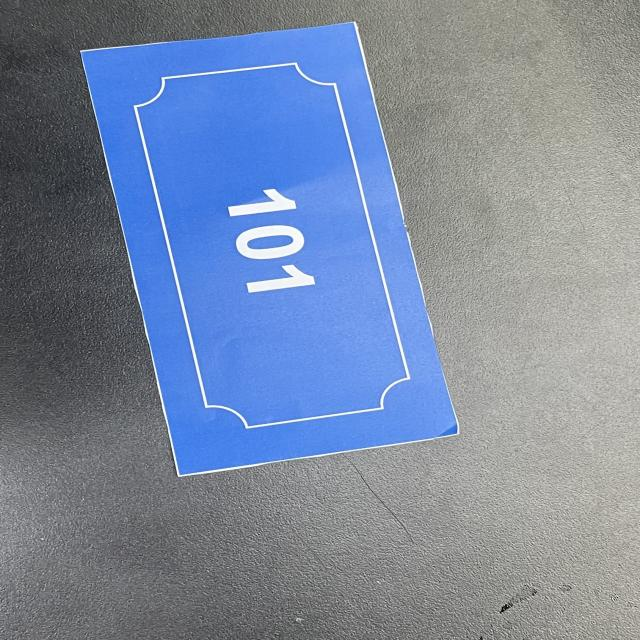Card: (49, 0, 498, 489)
